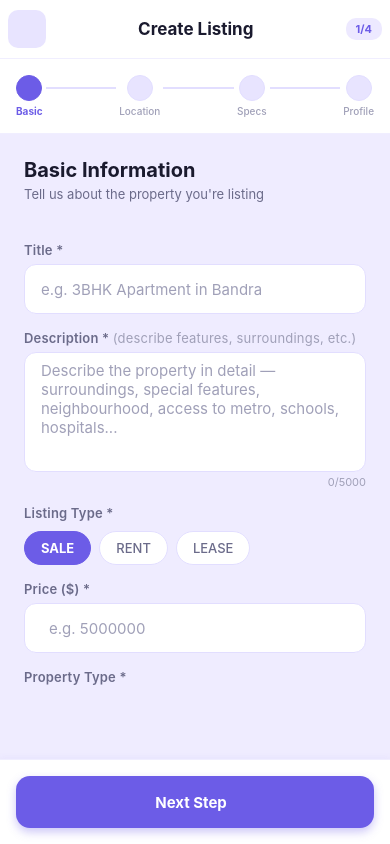
CreateListingScreen city picker (Seller neighbourhood-selection bug) › shows "select a city first" and no locality list when no city has been chosen
In the field with placeholder "e.g. 3BHK Apartment in Bandra": (195, 289) [24,264,366,314], type "Test Listing"
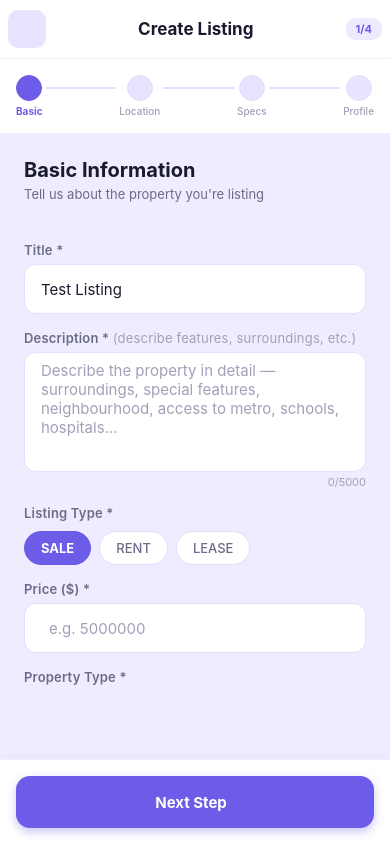
Replace the text in the text box with placeholder "Describe the property in detail" with "A lovely test property description.": (195, 412) [24,352,366,472]
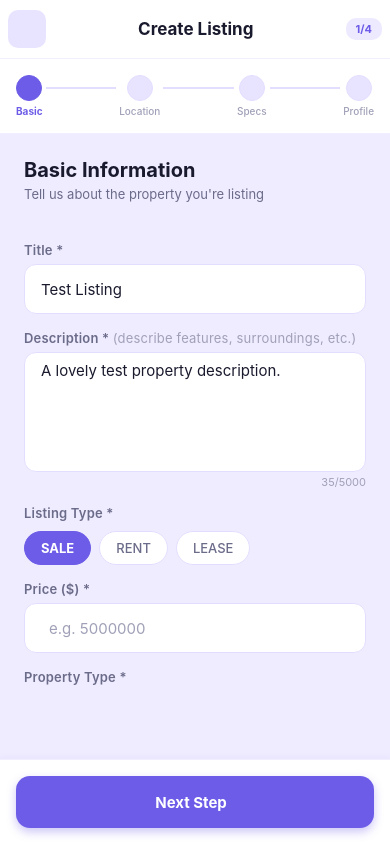
In the field with placeholder "e.g. 5000000": (199, 628) [49,618,349,638], type "500000"
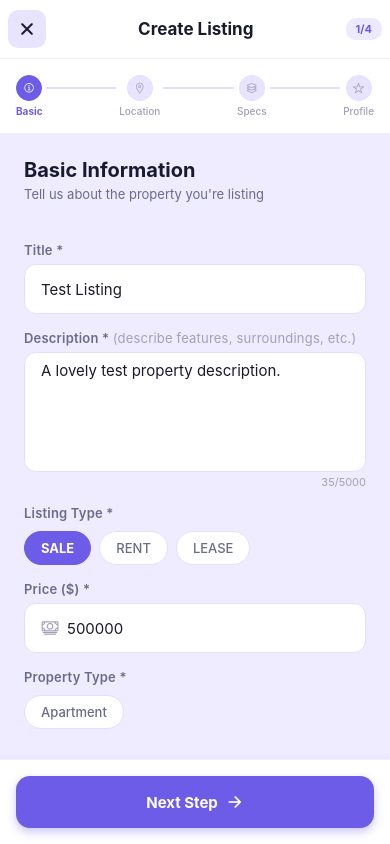
Click the text "Apartment": (74, 712) [41,704,107,720]
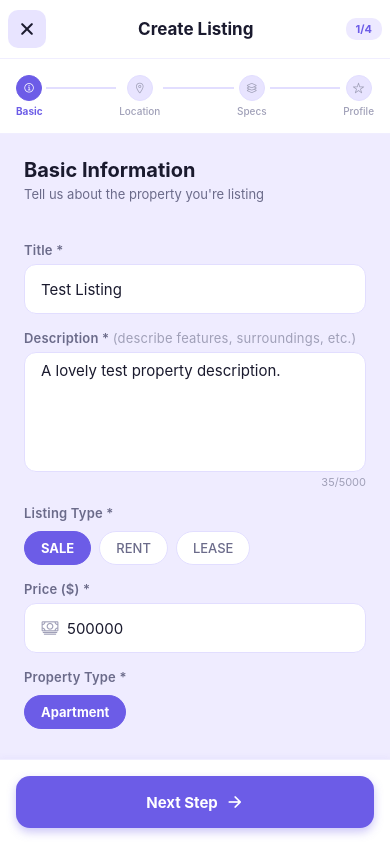
Click the text "Next Step": (182, 802) [146,792,218,812]
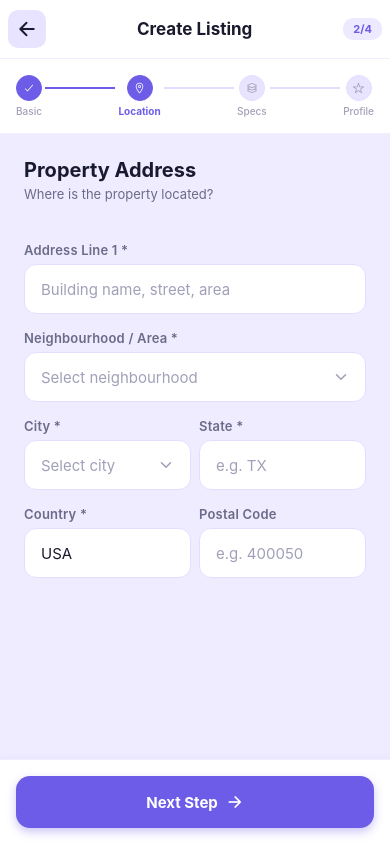
Click the text "Select neighbourhood": (119, 377) [41,368,198,386]
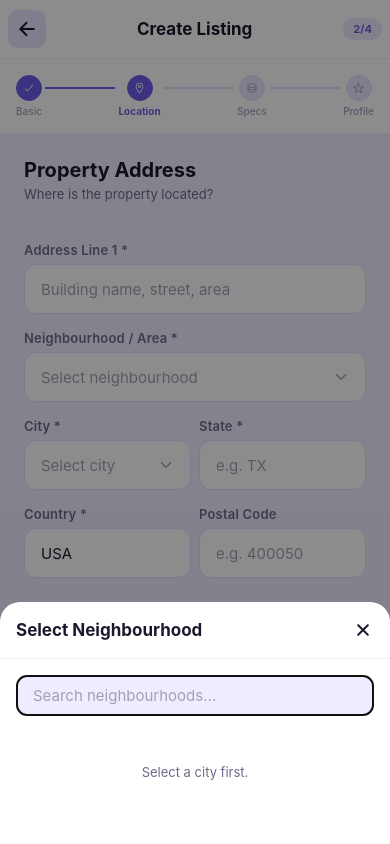
Check: the text "Select a city first." is shown, box [142,764,248,780]
